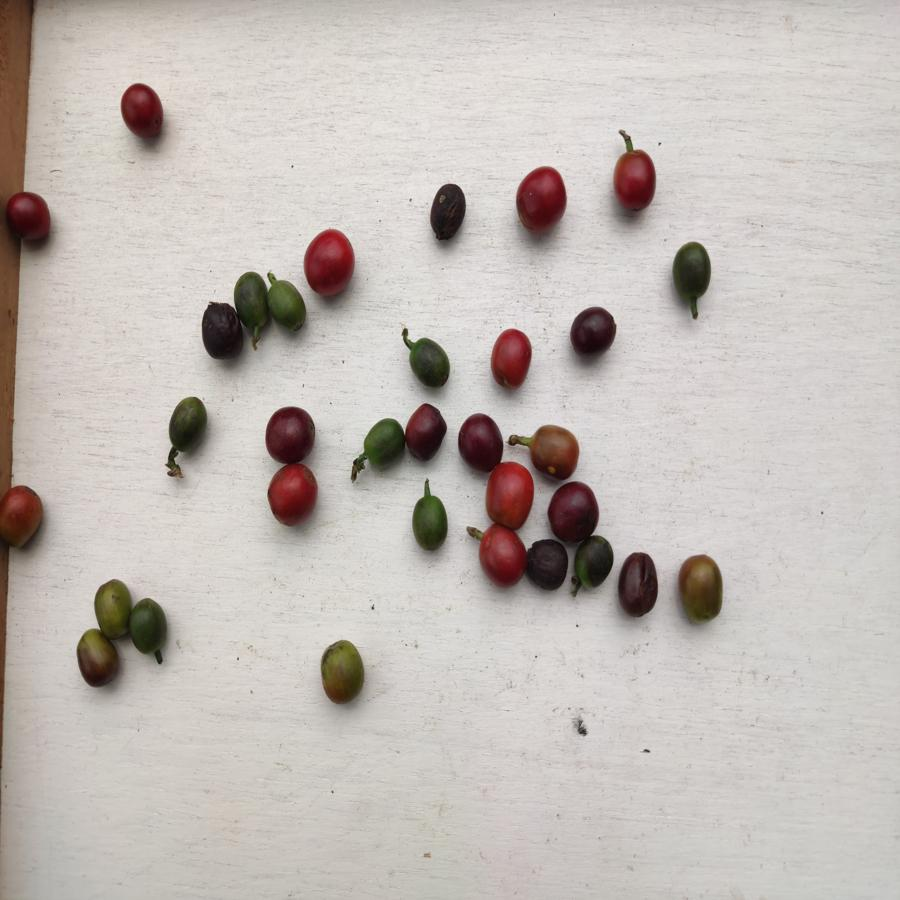Inmaduro: (129, 597, 169, 665), (672, 239, 712, 303), (357, 417, 403, 472), (407, 333, 450, 390), (573, 535, 614, 594), (168, 396, 208, 454), (409, 496, 451, 550), (266, 278, 307, 333), (235, 271, 270, 331)
Maduro: (514, 166, 566, 234), (305, 229, 356, 297), (266, 464, 320, 527), (483, 462, 535, 526), (477, 524, 526, 591), (612, 145, 656, 212), (488, 328, 534, 388), (6, 188, 53, 246), (120, 82, 164, 140)
Pinton: (676, 553, 727, 624), (316, 640, 371, 705), (1, 484, 44, 552), (530, 424, 581, 478), (75, 629, 118, 687), (89, 578, 129, 638)
Sobremaduro: (544, 479, 599, 539), (262, 404, 316, 463), (618, 552, 659, 618), (403, 402, 448, 462), (569, 307, 619, 360), (459, 411, 503, 471), (198, 301, 237, 361), (527, 538, 568, 591), (429, 182, 466, 239)
